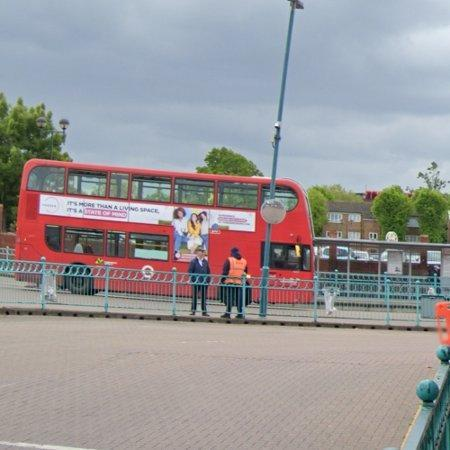buses: (17, 159, 269, 276), (272, 179, 314, 279)
